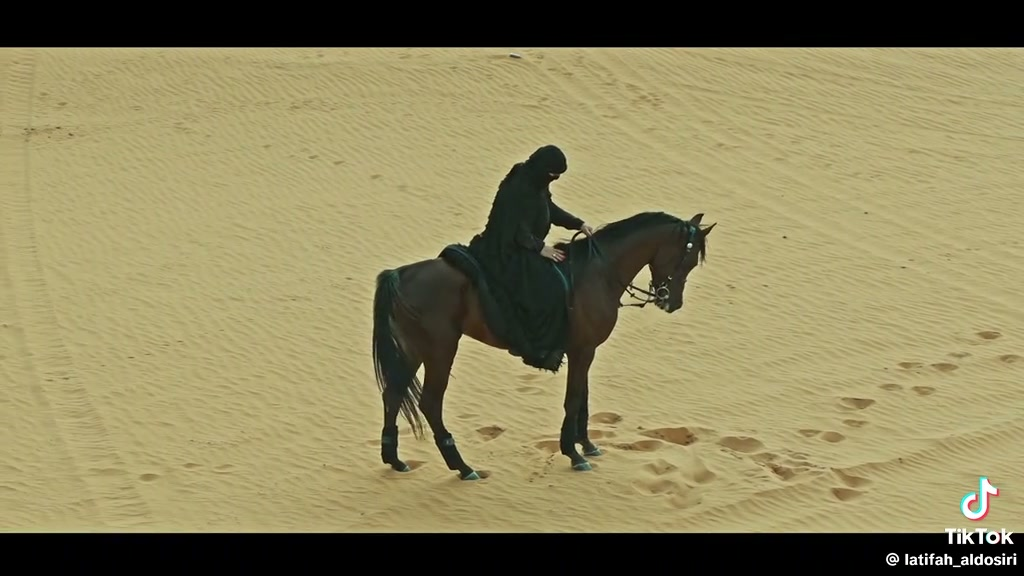animal_footprint: (631, 453, 715, 508), (750, 450, 823, 482), (830, 469, 871, 501), (639, 426, 706, 445), (798, 429, 845, 442), (837, 397, 875, 410), (476, 425, 504, 440), (841, 419, 868, 428)
